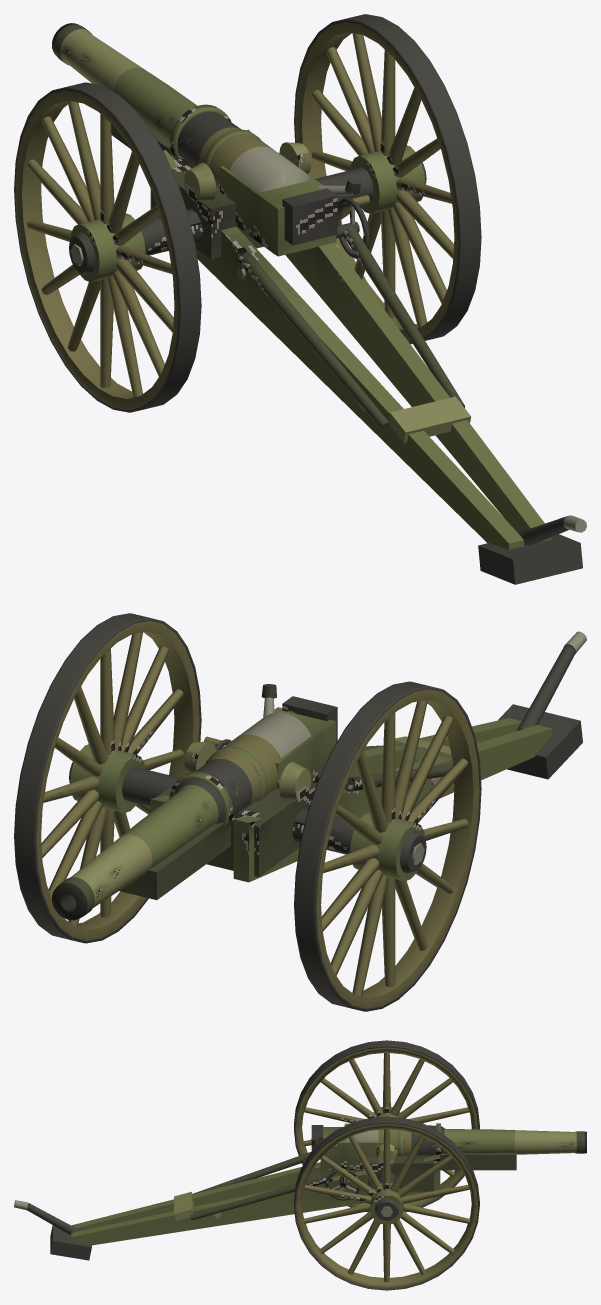
Rendered from field-gun-75-hit.glb.
3 renders of one model, top to bottom at view 1: azimuth 30°, elevation 25°; view 2: azimuth 150°, elevation 25°; view 3: azimuth 270°, elevation 25°, orthographic. The views are drawn at different scales.
Visible parts, largest first — view 1: FieldGun, Barrel, Elevation; view 2: FieldGun, Barrel, Elevation; view 3: FieldGun, Barrel, Elevation.
Boxes of the visible parts, x1=… form: FieldGun: x1=14, y1=14, x2=586, y2=584; Barrel: x1=52, y1=23, x2=311, y2=192; Elevation: x1=111, y1=104, x2=360, y2=256; FieldGun: x1=14, y1=613, x2=586, y2=1011; Barrel: x1=52, y1=712, x2=311, y2=920; Elevation: x1=60, y1=684, x2=337, y2=911; FieldGun: x1=14, y1=1040, x2=479, y2=1290; Barrel: x1=344, y1=1123, x2=586, y2=1156; Elevation: x1=311, y1=1123, x2=516, y2=1170.
Size of the model in its own units: 1.57 by 1.33 by 4.07.
Materials: 7 (7 with a texture image).
